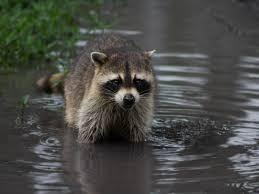raccoon: (25, 23, 172, 155)
